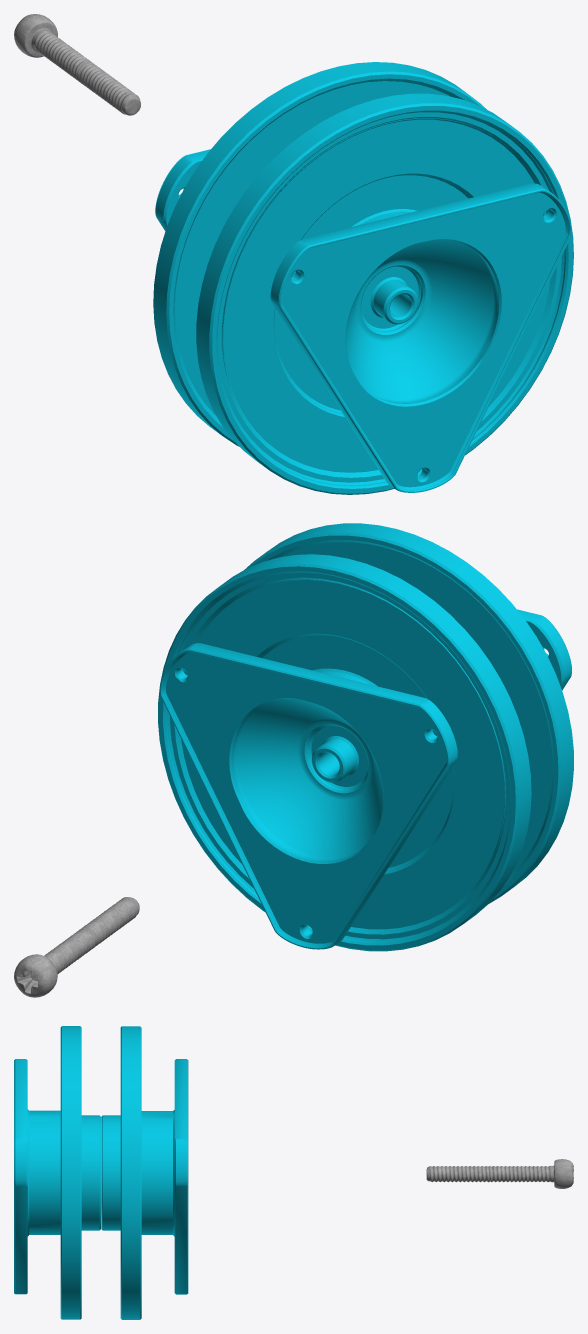
3 views of the same model, one above another, from view 1: azimuth 30°, elevation 25°; view 2: azimuth 150°, elevation 25°; view 3: azimuth 270°, elevation 25° (orthographic). The views are drawn at different scales.
Parts seen in each view (by area): view 1: Cylinder.001, Cylinder.005, pan head screw (bolt).002; view 2: Cylinder.005, Cylinder.001, pan head screw (bolt).002; view 3: Cylinder.005, Cylinder.001, pan head screw (bolt).002.
Part boxes in pixels (x1,y1,x2,y2): Cylinder.001: (196,93,573,494); Cylinder.005: (153,62,486,446); pan head screw (bolt).002: (14,14,140,115); Cylinder.005: (158,554,531,951); Cylinder.001: (244,523,573,903); pan head screw (bolt).002: (14,897,139,997); Cylinder.005: (101,1026,188,1319); Cylinder.001: (14,1026,100,1319); pan head screw (bolt).002: (426,1159,573,1188).
Bounding box in the file's own units: 1.79 × 1.79 × 3.42.
2 materials, 1 textured.
